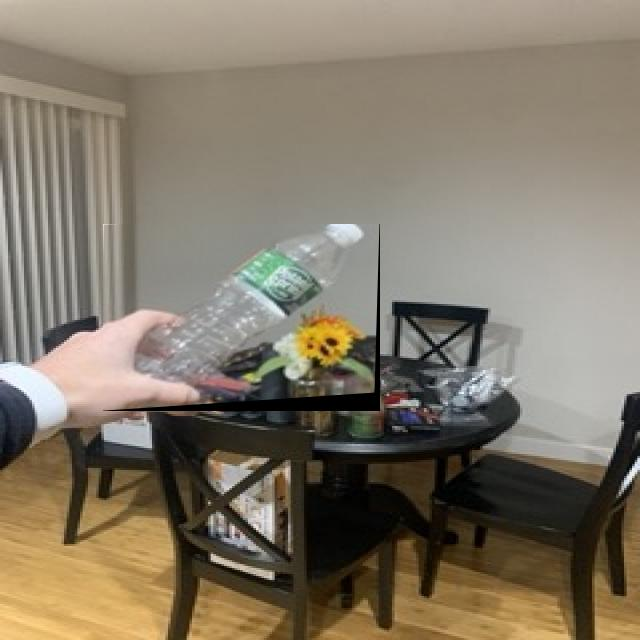water_bottle: (103, 224, 380, 407)
